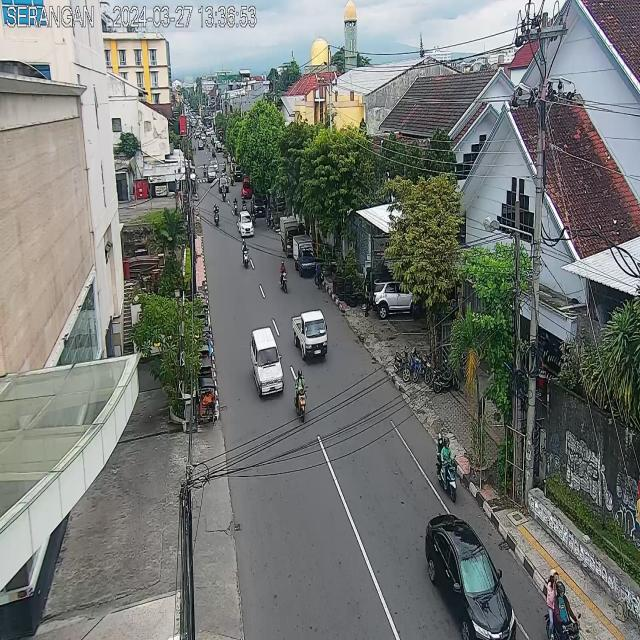car: (424, 513, 519, 640), (251, 327, 284, 398), (238, 210, 254, 238), (251, 194, 265, 217), (241, 182, 253, 199), (218, 178, 229, 194)
motorcycle: (542, 564, 582, 640), (433, 428, 459, 504), (294, 366, 307, 424), (278, 258, 288, 294), (241, 238, 250, 269), (212, 201, 220, 229), (250, 207, 256, 228), (233, 196, 238, 216), (241, 196, 247, 211), (222, 184, 226, 203)
truck: (291, 309, 327, 361), (293, 234, 316, 277), (280, 215, 300, 258)
